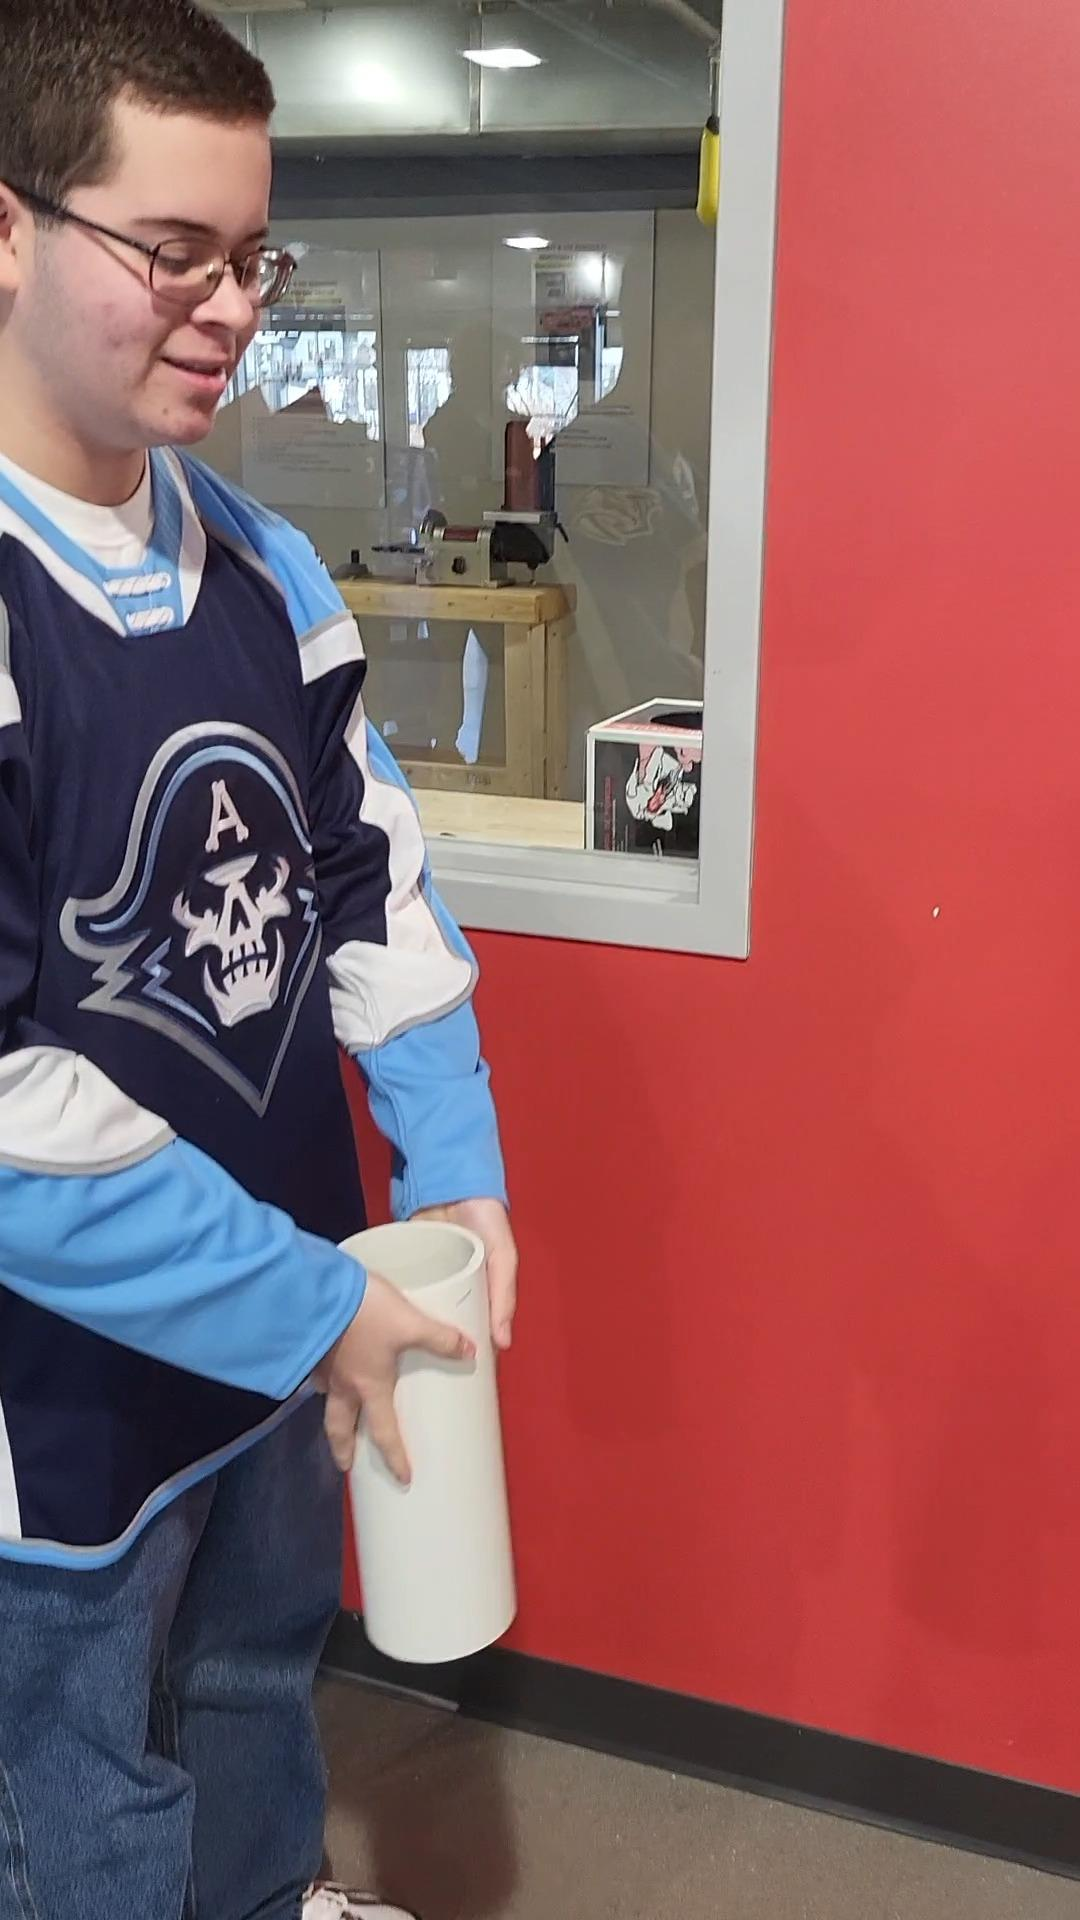coral: (327, 1211, 520, 1675)
